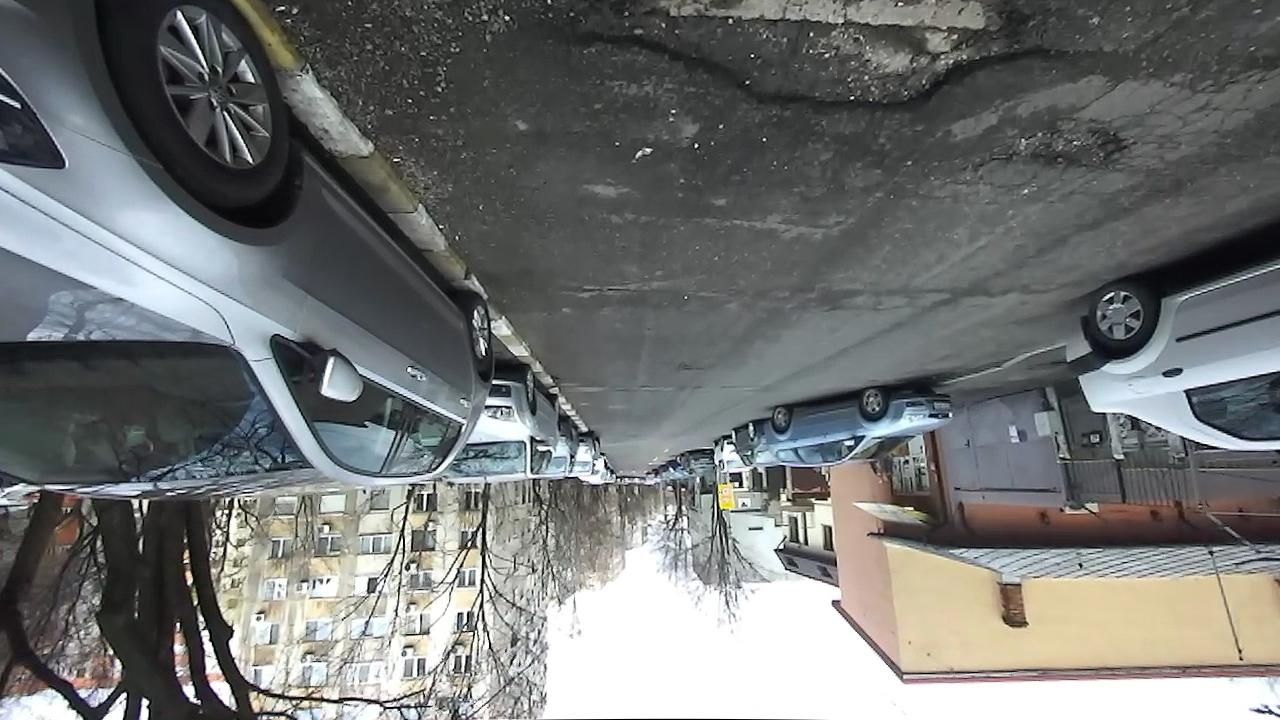pothole: (558, 0, 1076, 112), (965, 114, 1139, 177), (564, 276, 653, 304)
